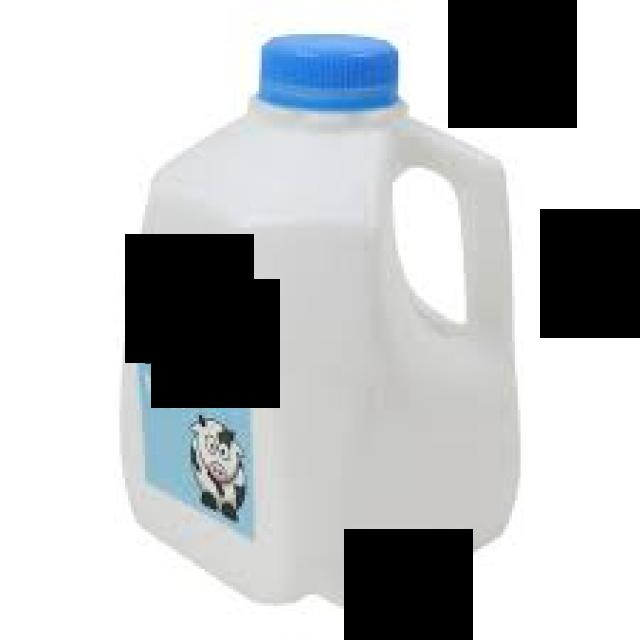milk: (71, 13, 575, 628)
